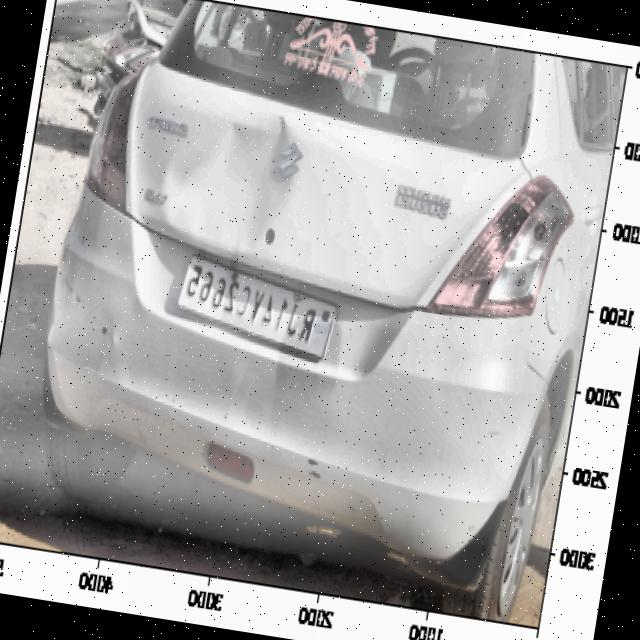license_plate: (173, 257, 330, 350)
